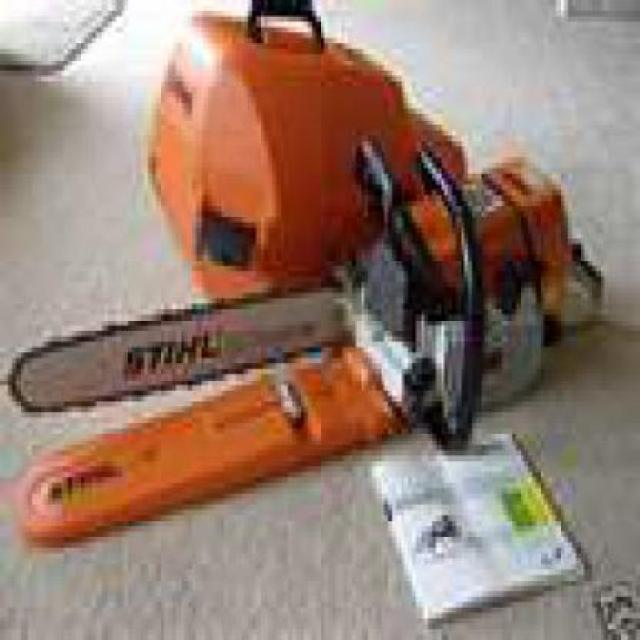Chainsaw: (5, 131, 603, 455)
